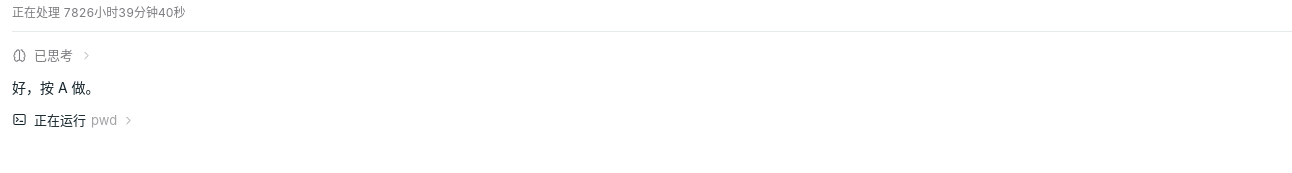
Test: Codex-style activity trace › a round that only thought folds into one line while running
Check: the text "已思考" is shown, box [34,44,73,66]
Check: the text "The user picked option A" is not shown
Click the heading "已思考" at (52, 55), box [12,47,93,63]
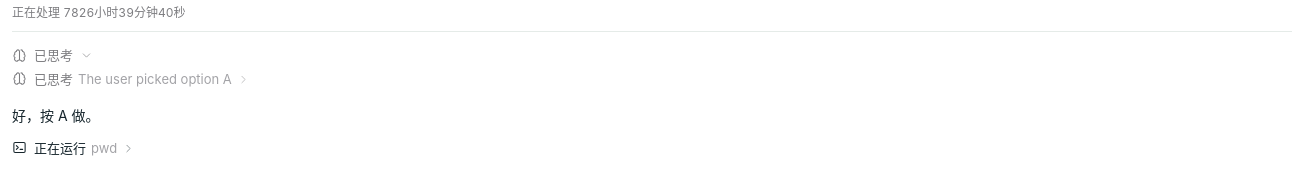
Check: the text "The user picked option A" is shown, box [78,68,232,90]
